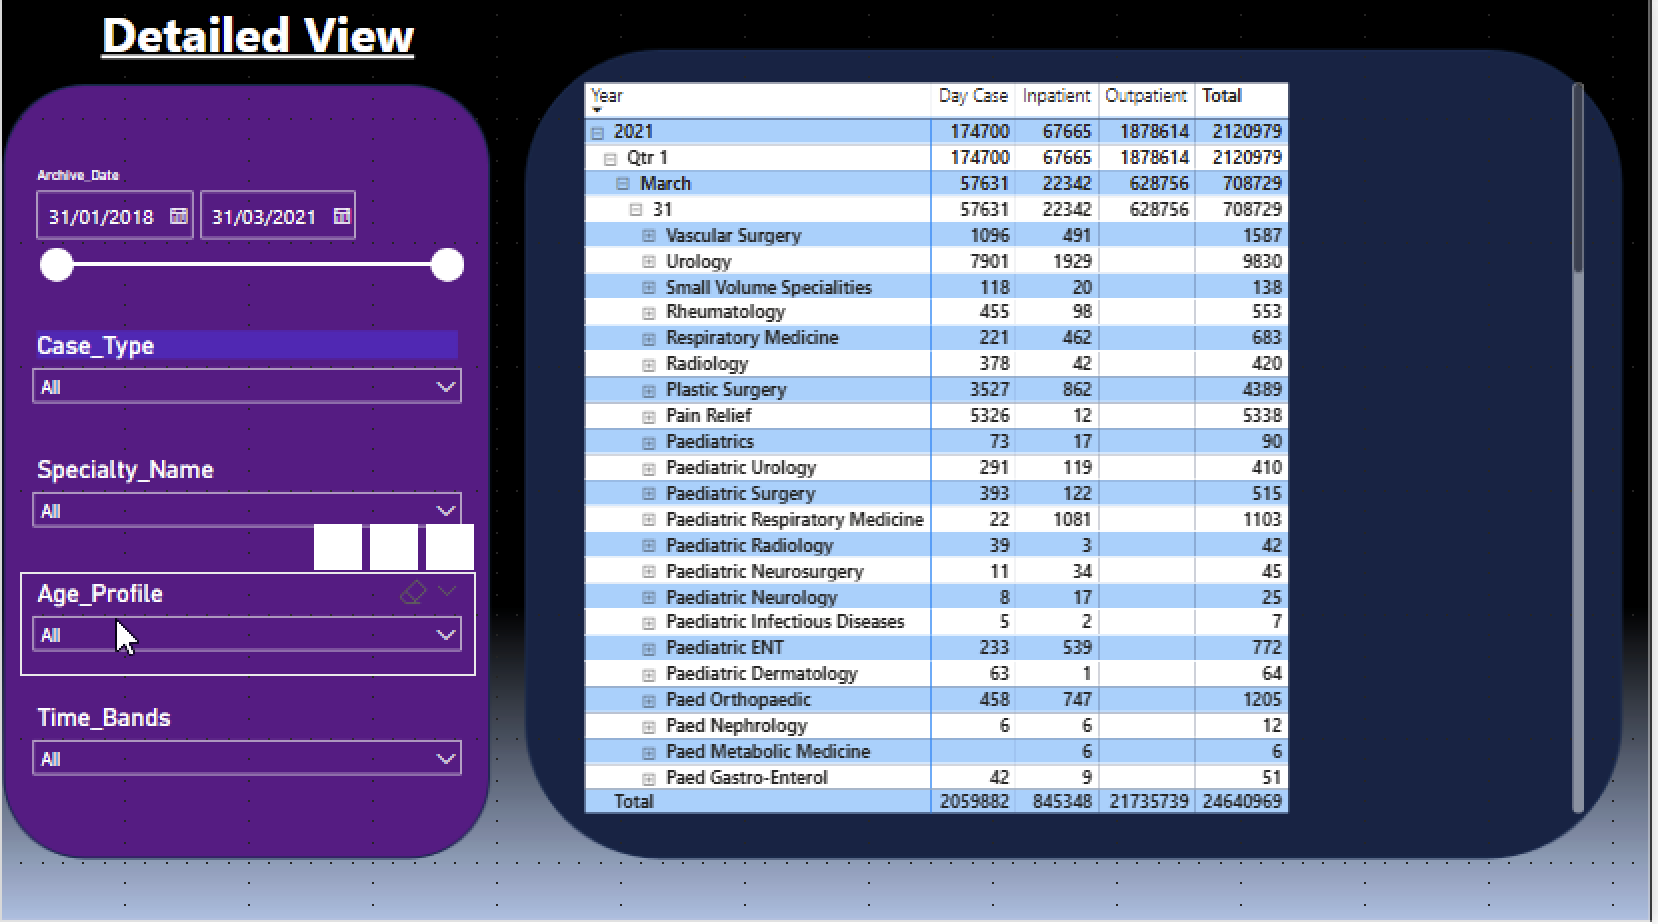

The dashboard page shown, as its layout file describes it:
{"tool":"powerbi","page":{"name":"Detail","canvas":[1280,720],"ordinal":1},"visuals":[{"type":"slicer","fields":{"Values":["All_data.Case_Type"]},"box":[16,256,352,80],"z":0},{"type":"slicer","fields":{"Values":["All_data.Specialty_Name"]},"box":[16,352,352,80],"z":1000},{"type":"slicer","fields":{"Values":["All_data.Archive_Date"]},"box":[16,128,352,112],"z":2000},{"type":"textbox","box":[16,0,368,64],"z":3000},{"type":"slicer","fields":{"Values":["All_data.Age_Profile"]},"box":[16,448,352,80],"z":4000},{"type":"slicer","fields":{"Values":["All_data.Time_Bands"]},"box":[16,544,352,80],"z":5000},{"type":"pivotTable","fields":{"Rows":["All_data.Archive_Date.Variation.Date Hierarchy.Year","All_data.Archive_Date.Variation.Date Hierarchy.Quarter","All_data.Archive_Date.Variation.Date Hierarchy.Month","All_data.Archive_Date.Variation.Date Hierarchy.Day","All_data.Specialty_Name","All_data.Age_Profile","All_data.Time_Bands"],"Columns":["All_data.Case_Type"],"Values":["Sum(All_data.Total)"]},"box":[448,64,784,576],"z":6000}]}

Visuals, with their boxes in screenshot pixels (x1, y1, x2, y2), scaled from the page's 1280x720 canvas onto the 1658x924 screenshot:
slicer - All_data.Case_Type: {"x1": 21, "y1": 329, "x2": 477, "y2": 431}
slicer - All_data.Specialty_Name: {"x1": 21, "y1": 452, "x2": 477, "y2": 554}
slicer - All_data.Archive_Date: {"x1": 21, "y1": 164, "x2": 477, "y2": 308}
textbox: {"x1": 21, "y1": 0, "x2": 497, "y2": 82}
slicer - All_data.Age_Profile: {"x1": 21, "y1": 575, "x2": 477, "y2": 678}
slicer - All_data.Time_Bands: {"x1": 21, "y1": 698, "x2": 477, "y2": 801}
pivotTable - All_data.Archive_Date.Variation.Date Hierarchy.Year x All_data.Archive_Date.Variation.Date Hierarchy.Quarter: {"x1": 580, "y1": 82, "x2": 1596, "y2": 821}
